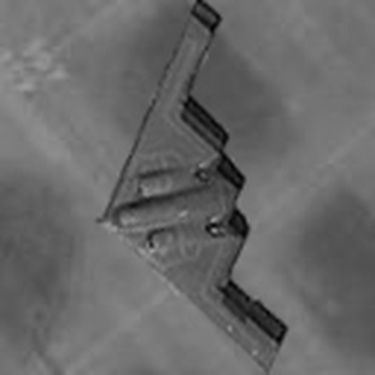airplane: (73, 5, 295, 373)
